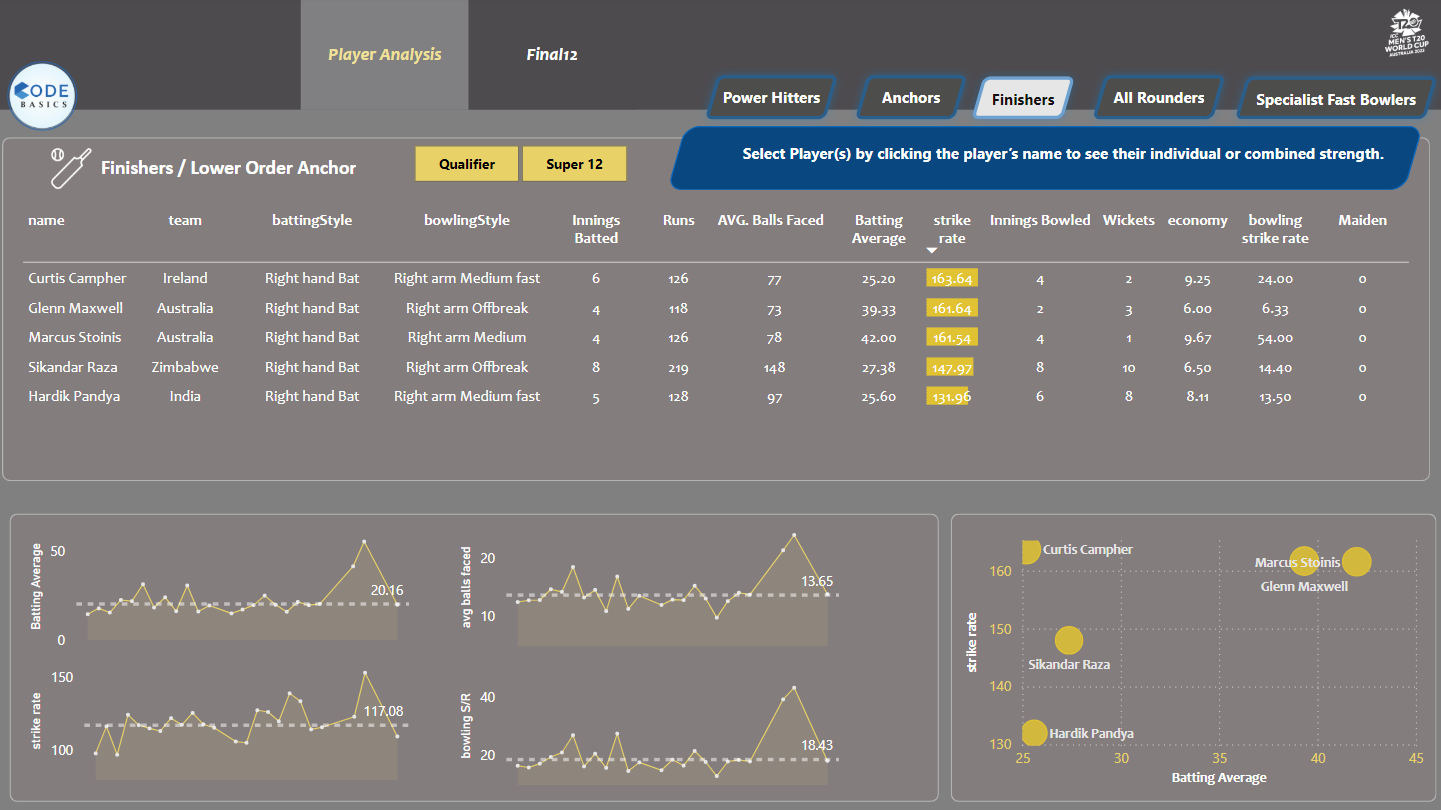

The page's visual inventory and layout, read from the dashboard file:
{"tool":"powerbi","page":{"name":"New Finisher / Lower Order Anchor","canvas":[1280,720],"ordinal":2},"visuals":[{"type":"shape","box":[843.8,455,427.5,253.8],"z":0},{"type":"shape","box":[8.8,123.8,1256.2,302.5],"z":1000},{"type":"image","box":[10,10,44,36],"z":2000},{"type":"image","box":[41.2,128.8,56.2,46.2],"z":3000},{"type":"tableEx","fields":{"Values":["dm_players.name","dm_players.team","dm_players.battingStyle","dim_players.bowlingStyle","key measures.Total Innings Batted","key measures.Total Runs","key measures.Total balls faced","key measures.Batting Average","key measures.strike rate","key measures.total innings bowled","key measures.Wickets","key measures.economy"]},"box":[21.2,171.2,1243.8,256.2],"z":4000},{"type":"shape","box":[0,0,1280,100.2],"z":5000},{"type":"slicer","fields":{"Values":["dm_match_summary.stage"]},"box":[345,123.8,237.5,46.2],"z":6000},{"type":"shape","box":[593.7,114.4,665.2,56.3],"z":7000},{"type":"card","fields":{"Values":["key measures.Batting Average"]},"box":[830.2,103.2,94.7,64.7],"z":8000},{"type":"card","fields":{"Values":["key measures.boundary %"]},"box":[934.5,103.2,95.9,64.7],"z":9000},{"type":"card","fields":{"Values":["key measures.strike rate"]},"box":[1040,103.2,94.7,65.9],"z":10000},{"type":"card","fields":{"Values":["key measures.avg balls faced"]},"box":[1140.7,103.2,94.7,64.7],"z":11000},{"type":"shape","box":[627.2,125.2,202.5,36],"z":12000},{"type":"actionButton","box":[619.6,61.1,133.1,55],"z":13000},{"type":"actionButton","box":[751.5,61.1,114.8,55],"z":14000},{"type":"actionButton","box":[852.9,62.3,107.5,53.7],"z":15000},{"type":"actionButton","box":[960.3,61.1,133.1,55],"z":16000},{"type":"actionButton","box":[1084.9,62.3,194.2,53.7],"z":17000},{"type":"shape","box":[15,455,817.5,253.8],"z":18000},{"type":"areaChart","fields":{"Y":["key measures.Batting Average"],"Category":["dim_match_summary.matchDate.Variation.Date Hierarchy.Year","dim_match_summary.matchDate.Variation.Date Hierarchy.Quarter","dim_match_summary.matchDate.Variation.Date Hierarchy.Month","dim_match_summary.matchDate.Variation.Date Hierarchy.Day"]},"box":[28.1,458,343.2,122.1],"z":19000},{"type":"areaChart","fields":{"Y":["key measures.avg balls faced"],"Category":["dim_match_summary.matchDate.Variation.Date Hierarchy.Year","dim_match_summary.matchDate.Variation.Date Hierarchy.Quarter","dim_match_summary.matchDate.Variation.Date Hierarchy.Month","dim_match_summary.matchDate.Variation.Date Hierarchy.Day"]},"box":[406.7,455.6,343.2,122.1],"z":20000},{"type":"areaChart","fields":{"Y":["key measures.strike rate"],"Category":["dim_match_summary.matchDate.Variation.Date Hierarchy.Year","dim_match_summary.matchDate.Variation.Date Hierarchy.Quarter","dim_match_summary.matchDate.Variation.Date Hierarchy.Month","dim_match_summary.matchDate.Variation.Date Hierarchy.Day"]},"box":[28.1,572.8,343.2,122.1],"z":21000},{"type":"areaChart","fields":{"Y":["key measures.bowling strike rate"],"Category":["dim_match_summary.matchDate.Variation.Date Hierarchy.Year","dim_match_summary.matchDate.Variation.Date Hierarchy.Quarter","dim_match_summary.matchDate.Variation.Date Hierarchy.Month","dim_match_summary.matchDate.Variation.Date Hierarchy.Day"]},"box":[406.7,577.7,343.2,122.1],"z":22000},{"type":"actionButton","box":[271.1,0,147.8,100.2],"z":23000},{"type":"actionButton","box":[418.9,0,147.8,100.2],"z":24000},{"type":"shape","box":[82.5,130,251.2,41.2],"z":25000},{"type":"scatterChart","fields":{"Category":["dim_players.name"],"X":["key measures.Batting Average"],"Y":["key measures.strike rate"],"Size":["key measures.strike rate"]},"box":[852.5,466.2,412.5,233.8],"z":26000},{"type":"image","box":[6.2,50,75,77.5],"z":27000},{"type":"shape","box":[658.8,123.8,567.5,27.5],"z":28000},{"type":"image","box":[1220,3,48,59],"z":28001}]}

Visuals, with their boxes in screenshot pixels (x1, y1, x2, y2), scaled from the page's 1280x720 canvas onto the 1441x810 screenshot:
shape: detection(950, 512, 1431, 797)
shape: detection(10, 139, 1424, 480)
image: detection(11, 11, 61, 52)
image: detection(46, 145, 110, 197)
tableEx - dm_players.name x dm_players.team: detection(24, 193, 1424, 481)
shape: detection(0, 0, 1440, 113)
slicer - dm_match_summary.stage: detection(388, 139, 656, 191)
shape: detection(668, 129, 1417, 192)
card - key measures.Batting Average: detection(935, 116, 1041, 189)
card - key measures.boundary %: detection(1052, 116, 1160, 189)
card - key measures.strike rate: detection(1171, 116, 1277, 190)
card - key measures.avg balls faced: detection(1284, 116, 1391, 189)
shape: detection(706, 141, 934, 181)
actionButton: detection(698, 69, 847, 131)
actionButton: detection(846, 69, 975, 131)
actionButton: detection(960, 70, 1081, 130)
actionButton: detection(1081, 69, 1231, 131)
actionButton: detection(1221, 70, 1440, 130)
shape: detection(17, 512, 937, 797)
areaChart - key measures.Batting Average x dim_match_summary.matchDate.Variation.Date Hierarchy.Year: detection(32, 515, 418, 653)
areaChart - key measures.avg balls faced x dim_match_summary.matchDate.Variation.Date Hierarchy.Year: detection(458, 513, 844, 650)
areaChart - key measures.strike rate x dim_match_summary.matchDate.Variation.Date Hierarchy.Year: detection(32, 644, 418, 782)
areaChart - key measures.bowling strike rate x dim_match_summary.matchDate.Variation.Date Hierarchy.Year: detection(458, 650, 844, 787)
actionButton: detection(305, 0, 472, 113)
actionButton: detection(472, 0, 638, 113)
shape: detection(93, 146, 376, 193)
scatterChart - dim_players.name x key measures.Batting Average: detection(960, 524, 1424, 788)
image: detection(7, 56, 91, 143)
shape: detection(742, 139, 1381, 170)
image: detection(1373, 3, 1427, 70)
